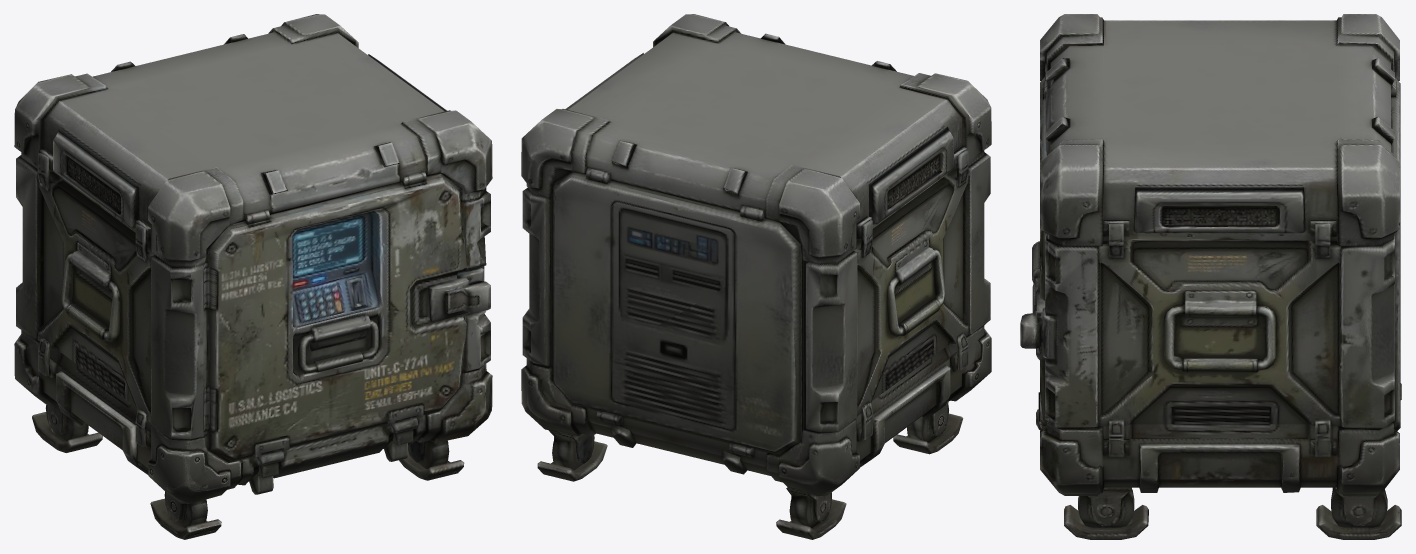
3 views of the same model, side by side, from view 1: azimuth 30°, elevation 25°; view 2: azimuth 150°, elevation 25°; view 3: azimuth 270°, elevation 25° (orthographic). The views are drawn at different scales.
Parts seen in each view (by area): view 1: tripo_node_265bfbc0-dd6c-49a1-9b61-6db9b22926b1; view 2: tripo_node_265bfbc0-dd6c-49a1-9b61-6db9b22926b1; view 3: tripo_node_265bfbc0-dd6c-49a1-9b61-6db9b22926b1.
Boxes of the visible parts, <box> form: tripo_node_265bfbc0-dd6c-49a1-9b61-6db9b22926b1: <box>14,14,492,539</box>; tripo_node_265bfbc0-dd6c-49a1-9b61-6db9b22926b1: <box>521,14,991,539</box>; tripo_node_265bfbc0-dd6c-49a1-9b61-6db9b22926b1: <box>1020,14,1401,539</box>.
Size of the model in its own units: 0.9941 by 0.998 by 0.9082.
Materials: 1 (1 with a texture image).
